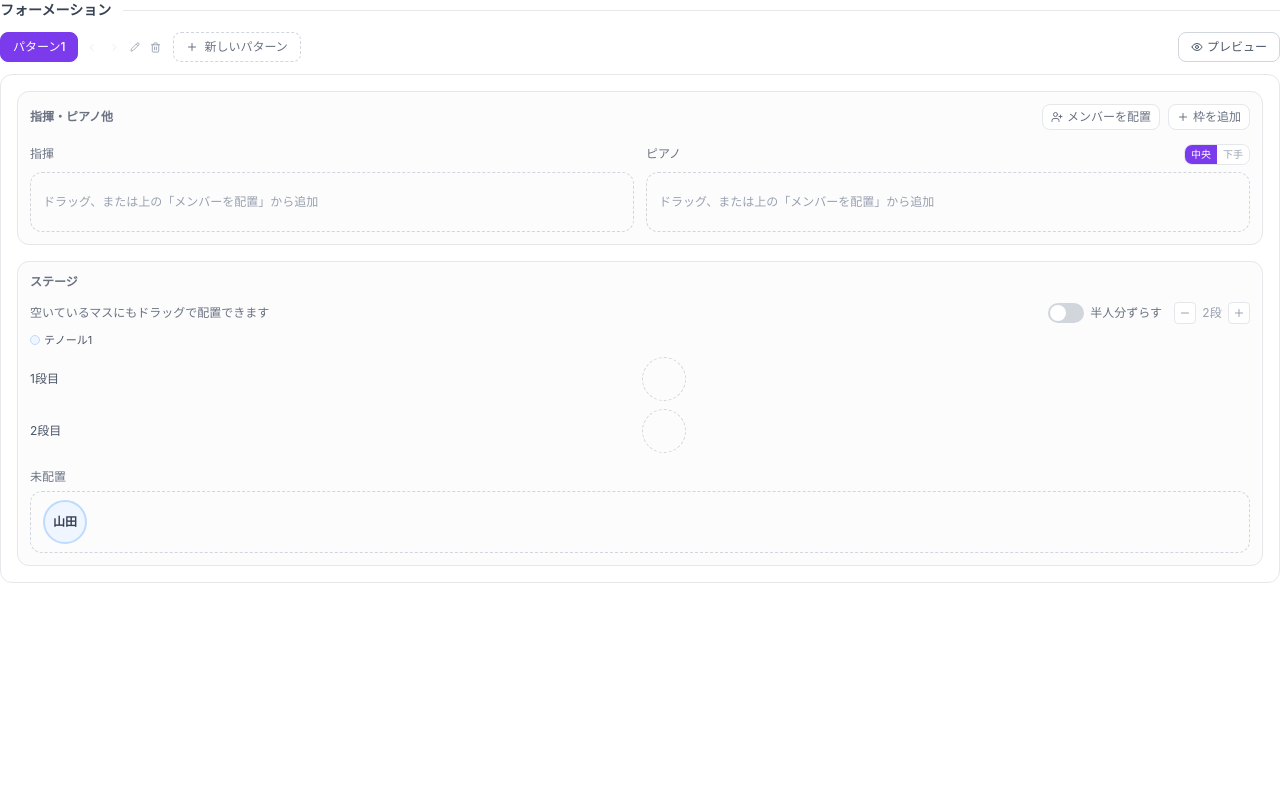
Test: OnstageTab（パターンCRUD） › 削除に失敗したら確認ダイアログの中にエラーを表示する
Click the button titled "削除". click: x=156, y=47
box: [146,38,165,56]
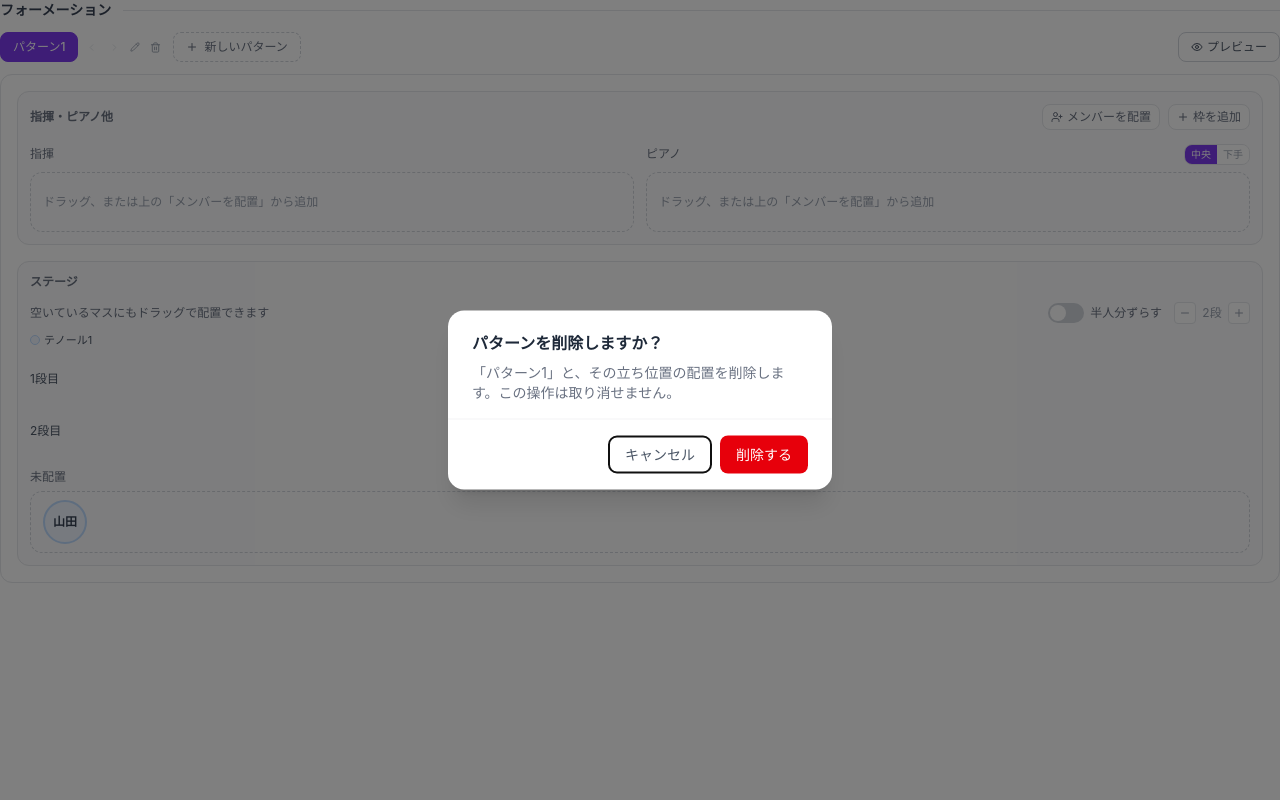
Click the button "削除する". click: x=764, y=454
box: [720,436,808,474]
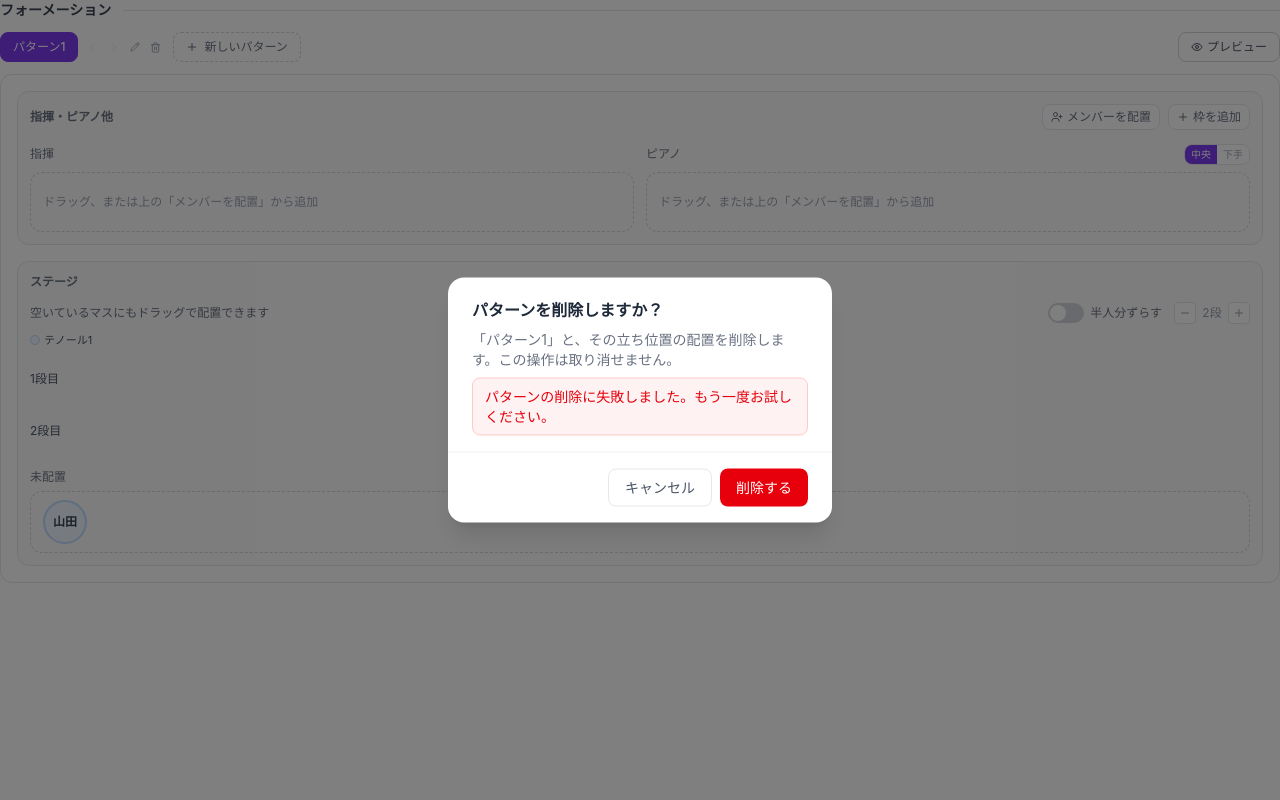
Expected: the message shows "パターンの削除に失敗しました", [485,388,792,424]
